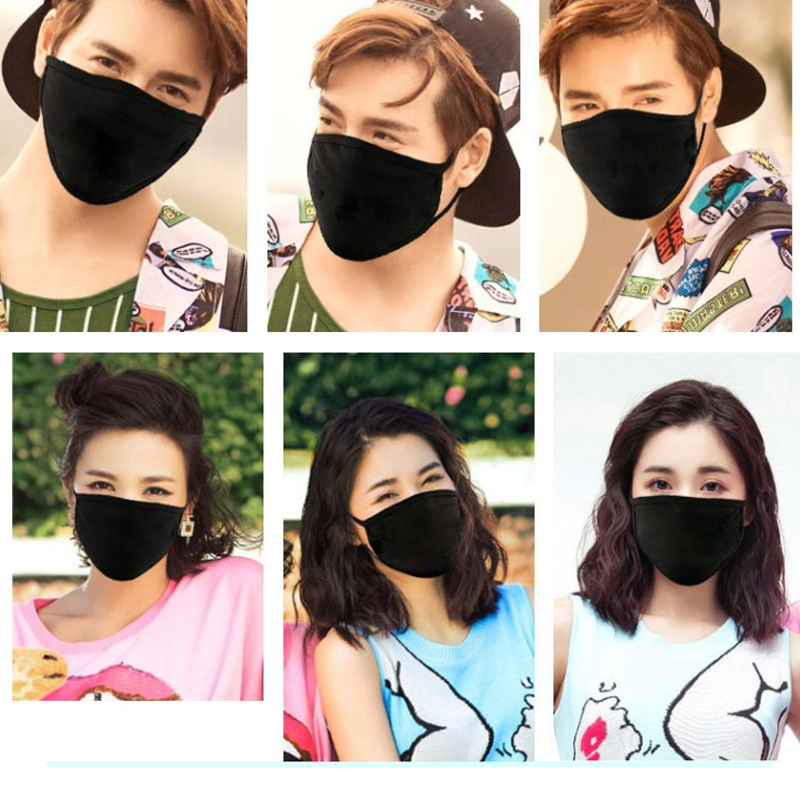face_mask: (47, 0, 213, 192), (308, 56, 450, 249), (555, 25, 696, 207), (70, 430, 187, 574), (630, 427, 742, 575), (347, 438, 462, 574)
